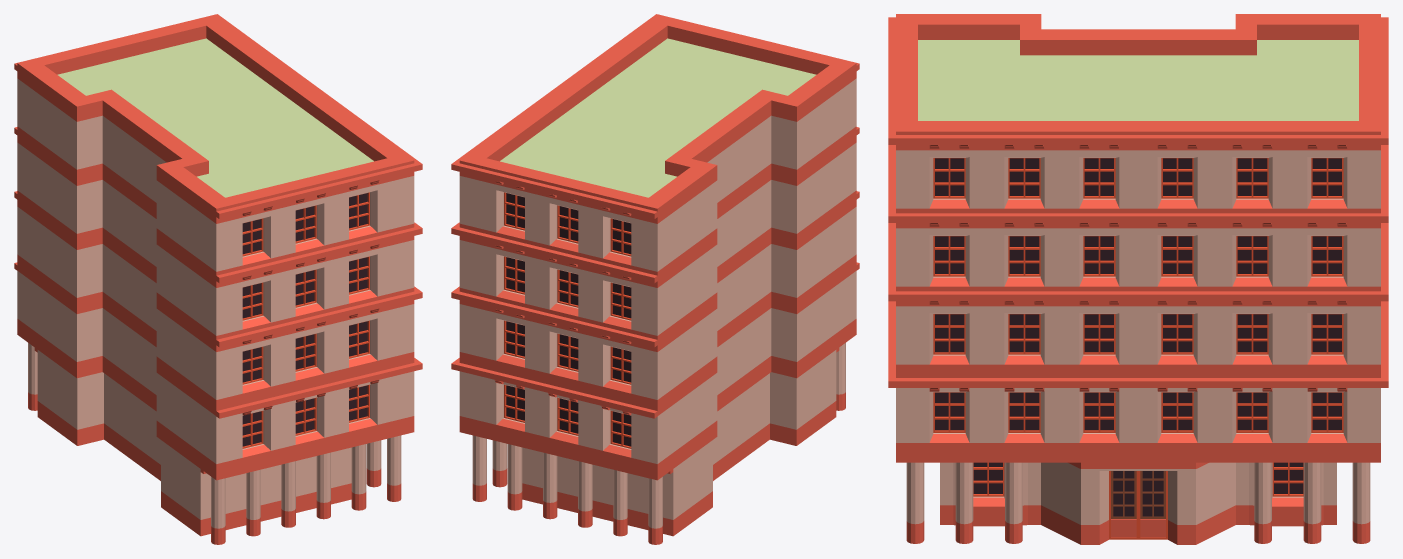
Rendered from PublicBuilding_10.glb.
The picture shows the model from 3 angles, left to right: view 1: azimuth 30°, elevation 25°; view 2: azimuth 150°, elevation 25°; view 3: azimuth 270°, elevation 25°; orthographic projection. The views are drawn at different scales.
Parts seen in each view (by area): view 1: PublicBuilding_10; view 2: PublicBuilding_10; view 3: PublicBuilding_10.
Part boxes in pixels (box(x1,y1,x2,y2)): PublicBuilding_10: box(14, 14, 422, 544); PublicBuilding_10: box(451, 14, 859, 544); PublicBuilding_10: box(888, 14, 1388, 544).
Size of the model in its own units: 0.0432 by 0.0693 by 0.0756.
Materials: 1 (1 with a texture image).
